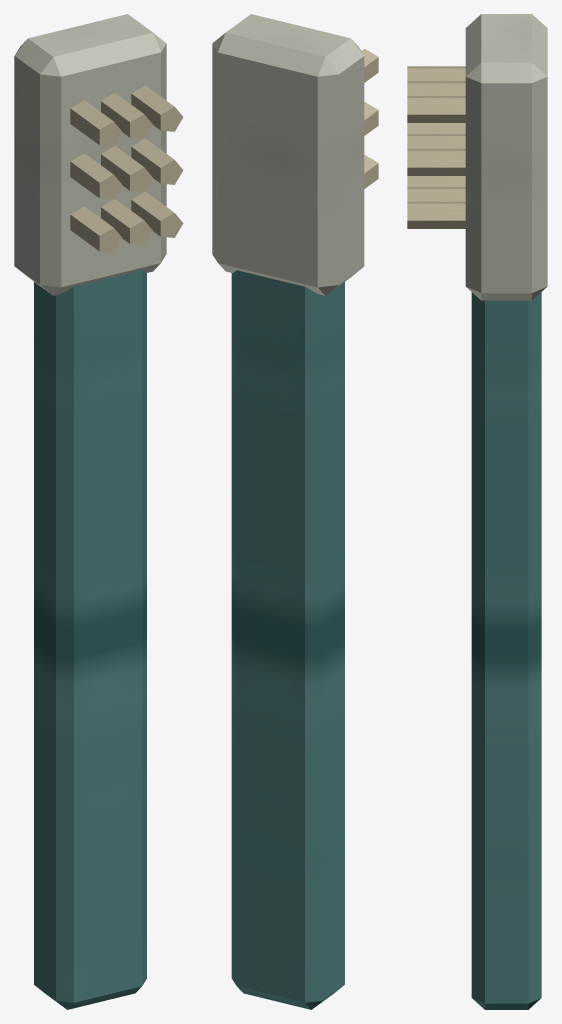
Rendered from MD_103_Toothbrush.fbx.
3 views of the same model, side by side, from view 1: azimuth 30°, elevation 25°; view 2: azimuth 150°, elevation 25°; view 3: azimuth 270°, elevation 25° (orthographic).
Parts seen in each view (by area): view 1: MD_103_Toothbrush_brush_handle, MD_103_Toothbrush_brush_head, MD_103_Toothbrush_bristle.002, MD_103_Toothbrush_bristle, MD_103_Toothbrush_bristle.001, MD_103_Toothbrush_bristle.007, MD_103_Toothbrush_bristle.008, MD_103_Toothbrush_bristle.006, MD_103_Toothbrush_bristle.003, MD_103_Toothbrush_bristle.004, MD_103_Toothbrush_bristle.005; view 2: MD_103_Toothbrush_brush_handle, MD_103_Toothbrush_brush_head; view 3: MD_103_Toothbrush_brush_handle, MD_103_Toothbrush_brush_head, MD_103_Toothbrush_bristle.006, MD_103_Toothbrush_bristle.007, MD_103_Toothbrush_bristle.008, MD_103_Toothbrush_bristle.002, MD_103_Toothbrush_bristle.003, MD_103_Toothbrush_bristle.004, MD_103_Toothbrush_bristle.005, MD_103_Toothbrush_bristle, MD_103_Toothbrush_bristle.001.
Part boxes in pixels (x1,y1,x2,y2): MD_103_Toothbrush_brush_handle: (34,270,146,1009); MD_103_Toothbrush_brush_head: (14,14,166,295); MD_103_Toothbrush_bristle.002: (70,100,122,146); MD_103_Toothbrush_bristle: (70,206,122,252); MD_103_Toothbrush_bristle.001: (70,153,122,199); MD_103_Toothbrush_bristle.007: (131,138,183,184); MD_103_Toothbrush_bristle.008: (131,85,183,131); MD_103_Toothbrush_bristle.006: (131,191,183,237); MD_103_Toothbrush_bristle.003: (101,199,152,245); MD_103_Toothbrush_bristle.004: (101,146,152,192); MD_103_Toothbrush_bristle.005: (101,93,152,139); MD_103_Toothbrush_brush_handle: (231,270,344,1009); MD_103_Toothbrush_brush_head: (212,14,364,295); MD_103_Toothbrush_brush_handle: (471,292,541,1009); MD_103_Toothbrush_brush_head: (465,14,547,300); MD_103_Toothbrush_bristle.006: (407,201,465,228); MD_103_Toothbrush_bristle.007: (407,148,465,175); MD_103_Toothbrush_bristle.008: (407,96,465,122); MD_103_Toothbrush_bristle.002: (407,66,465,80); MD_103_Toothbrush_bristle.003: (407,187,465,201); MD_103_Toothbrush_bristle.004: (407,134,465,148); MD_103_Toothbrush_bristle.005: (407,81,465,95); MD_103_Toothbrush_bristle: (407,176,465,186); MD_103_Toothbrush_bristle.001: (407,123,465,133).
Bounding box in the file's own units: 0.025 × 0.1805 × 0.024.
Materials: 3 (3 with a texture image).
